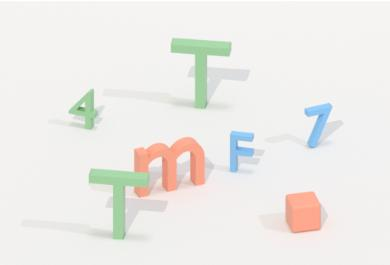0-KhoiVuong: (282, 188, 326, 236)
4: (64, 85, 105, 134)
7: (299, 100, 336, 153)
F: (228, 127, 260, 176)
T: (167, 33, 236, 116), (128, 133, 208, 202), (85, 163, 152, 242)
